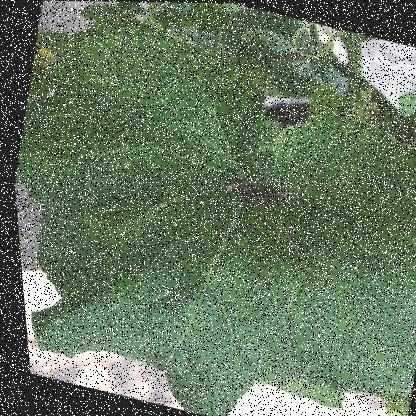Normal: (0, 1, 415, 415)
